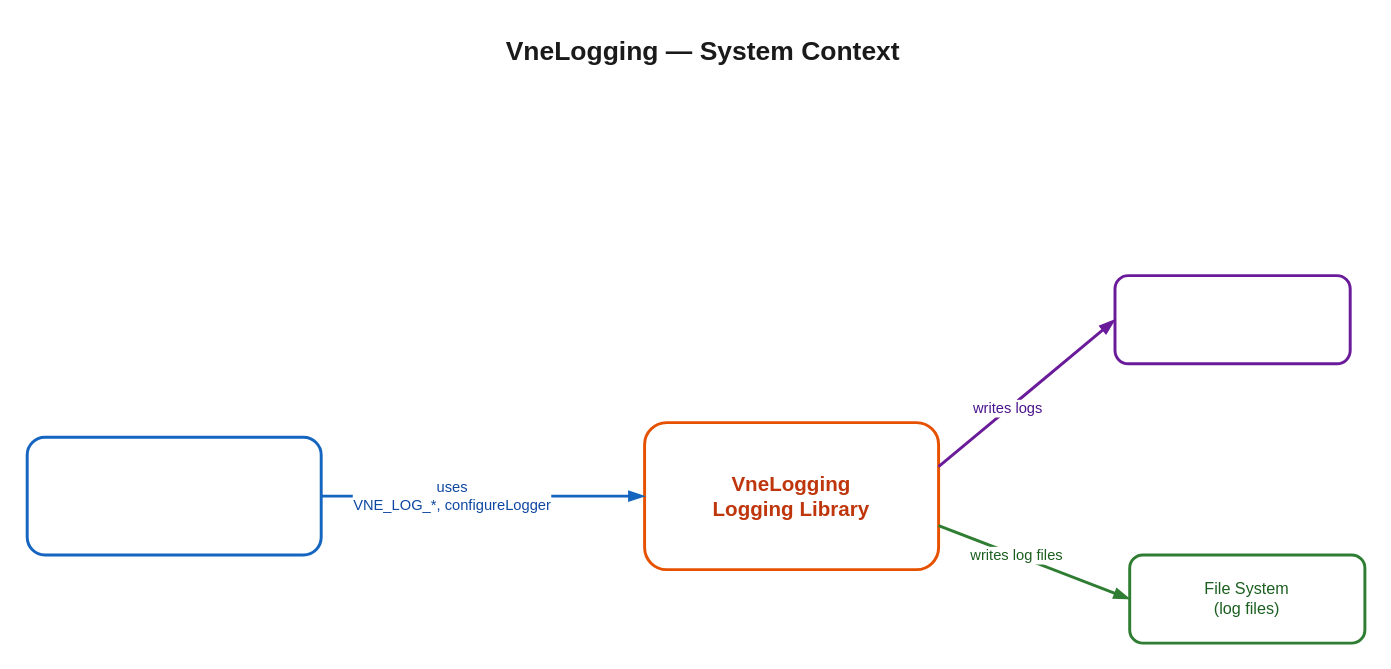
The diagram is 1391 pixels wide and 669 high, and some of its shapes have lost their labels. Here are the shapes that lost their labels. From the top down, the centre of each, then its label:
(1232,319): Console (stdout/stderr)
(173,495): C++ Application (Developer / User Code)
